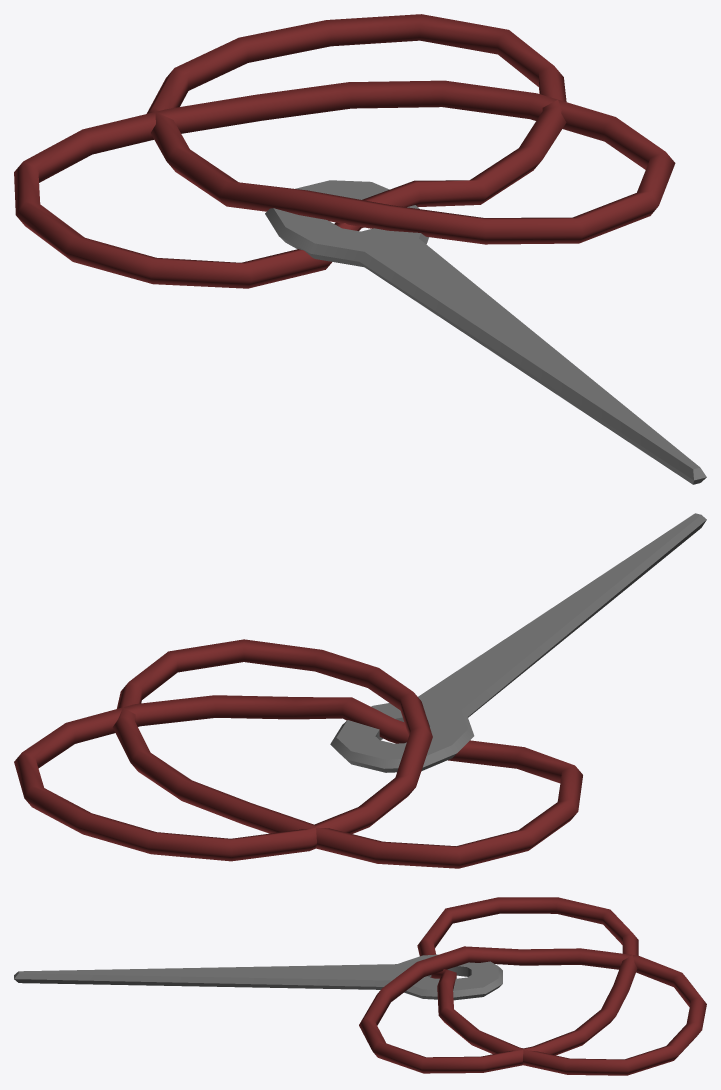
The model's file is Needle_01.fbx.
3 renders of one model, top to bottom at view 1: azimuth 30°, elevation 25°; view 2: azimuth 150°, elevation 25°; view 3: azimuth 270°, elevation 25°, orthographic. The views are drawn at different scales.
Visible parts, largest first — view 1: Needle_01_Thread, Needle_01; view 2: Needle_01_Thread, Needle_01; view 3: Needle_01_Thread, Needle_01.
Part boxes in pixels (x1=…): Needle_01_Thread: x1=14, y1=14, x2=675, y2=288; Needle_01: x1=265, y1=180, x2=706, y2=484; Needle_01_Thread: x1=14, y1=639, x2=582, y2=868; Needle_01: x1=330, y1=513, x2=706, y2=772; Needle_01_Thread: x1=359, y1=897, x2=706, y2=1075; Needle_01: x1=14, y1=954, x2=502, y2=1000.
Bounding box in the file's own units: 0.0934 × 0.00929 × 0.1625.
